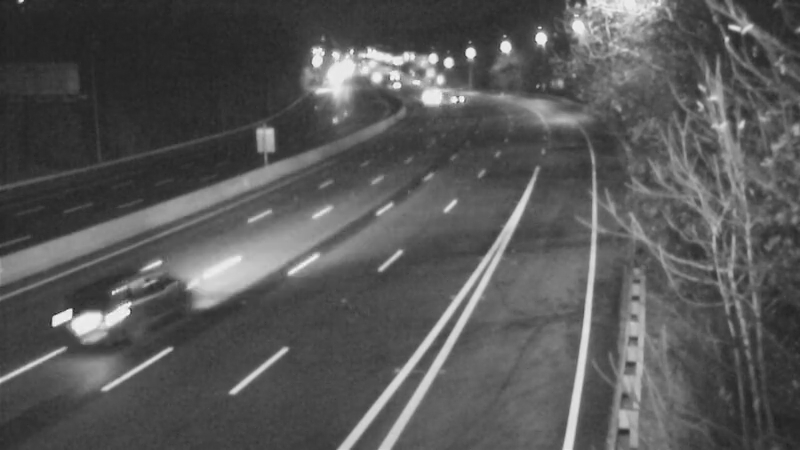vehicle: (44, 264, 154, 374), (369, 59, 419, 109), (399, 69, 449, 119), (431, 76, 481, 126)
